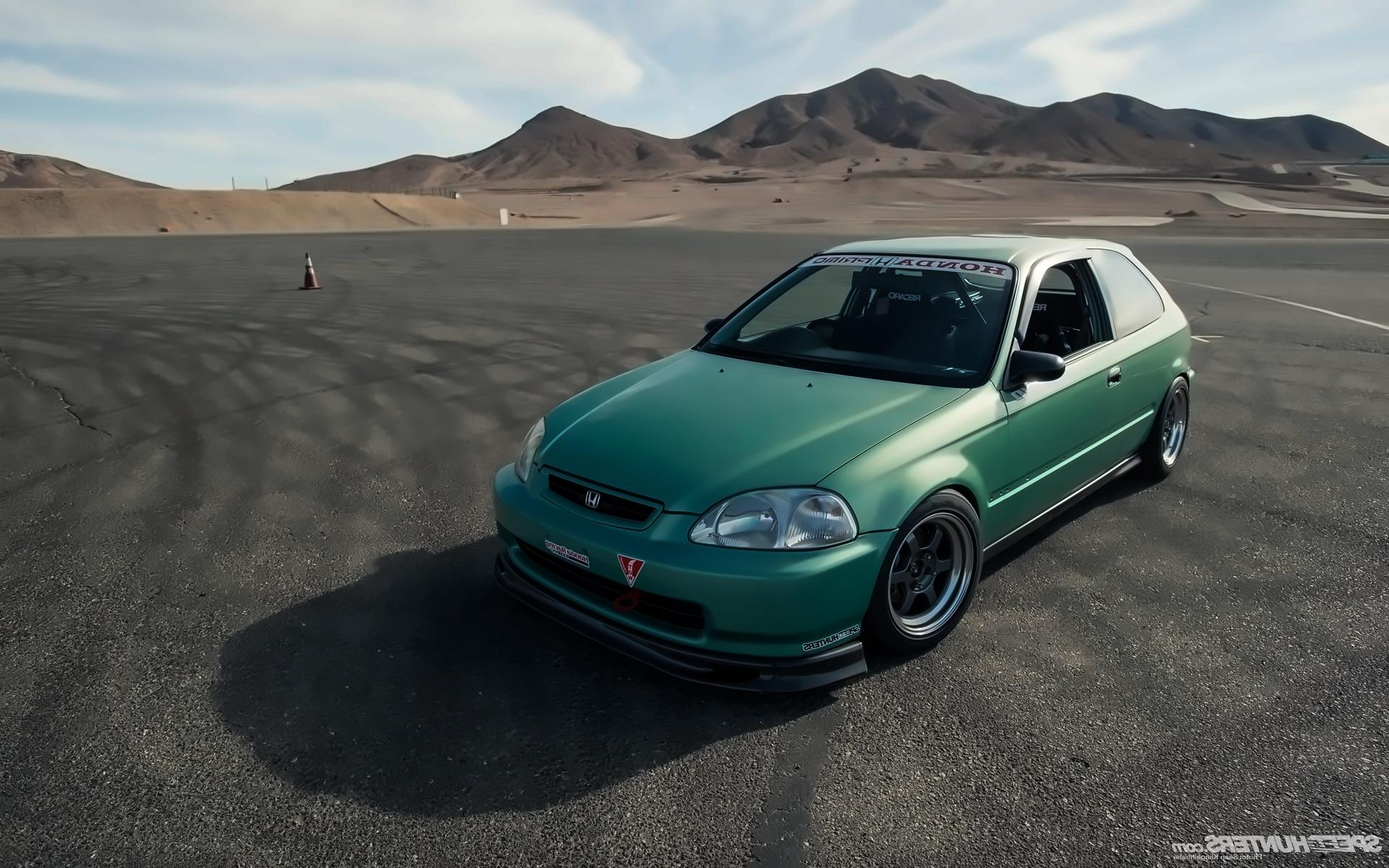Car hood: (540, 343, 1000, 503)
Fender - -F-L-: (810, 363, 1006, 623)
Fender - -R-L-: (1126, 298, 1206, 467)
Front bumper: (489, 465, 892, 680)
Headlight - -L-: (685, 480, 861, 557)
Headlight - -R-: (516, 407, 549, 489)
Passenger-s door - -F-L-: (972, 222, 1132, 554)
Side bumper - -L-: (981, 438, 1142, 601)
Side mirror - -L-: (996, 339, 1065, 400)
